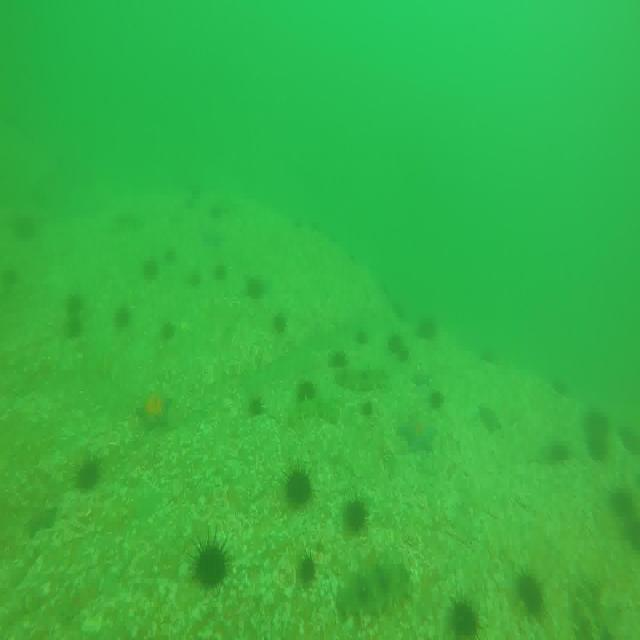echinus: (188, 528, 230, 588), (514, 574, 547, 620), (284, 469, 314, 510), (452, 601, 480, 640), (580, 401, 610, 437), (610, 485, 638, 522), (345, 497, 370, 533), (542, 438, 573, 467), (586, 428, 611, 462), (246, 270, 270, 303), (416, 312, 440, 344), (74, 462, 100, 490), (298, 550, 318, 586), (329, 345, 350, 371), (296, 381, 320, 403), (62, 314, 84, 337), (116, 304, 134, 330), (248, 392, 264, 421), (212, 262, 231, 286), (143, 260, 162, 282), (67, 292, 84, 316), (429, 386, 444, 412), (387, 326, 402, 351), (396, 343, 412, 364), (161, 241, 175, 264), (274, 310, 288, 332), (163, 320, 178, 340), (188, 267, 204, 285)
holothurian: (337, 555, 412, 625), (338, 362, 384, 390)
starfish: (133, 385, 172, 435), (397, 416, 437, 458), (25, 496, 57, 540), (473, 400, 503, 436), (200, 221, 226, 251)
